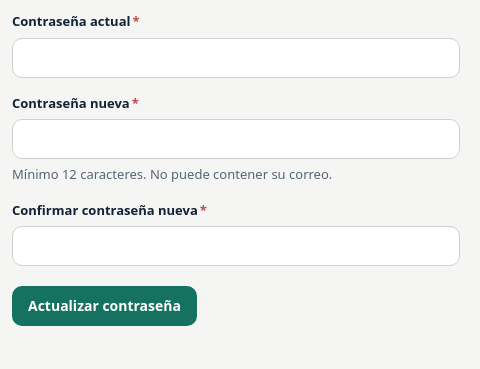
ChangePasswordForm › shows a wrong current password under its field
Type "actual-1234567" into the password field labelled "Contraseña actual*". click: (236, 58)
box: [12,38,460,78]
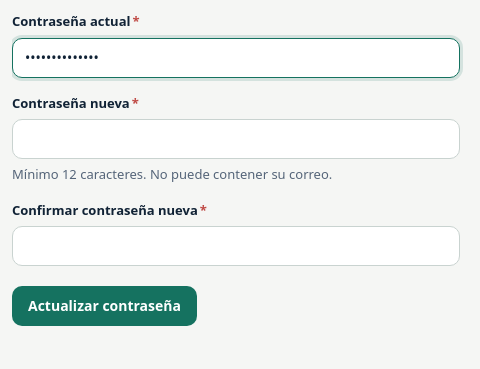
Type "Obra-Segura-2026" into the password field labelled "Contraseña nueva*". click: (236, 139)
box: [12,119,460,159]
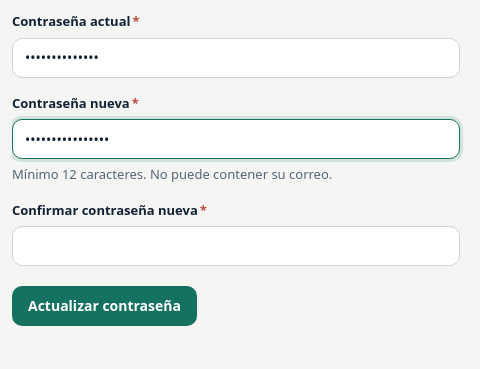
Type "Obra-Segura-2026" into the password field labelled "Confirmar contraseña nueva*". click: (236, 246)
box: [12,226,460,266]
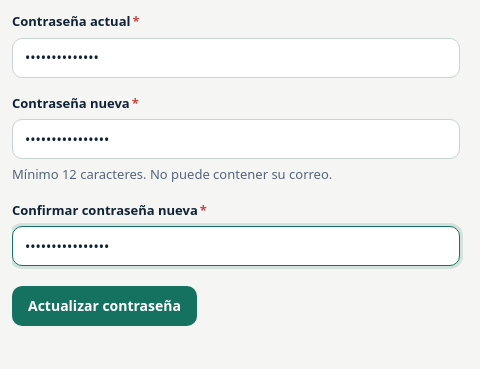
Click the button "Actualizar contraseña". click: (104, 306)
box: [12,286,197,326]
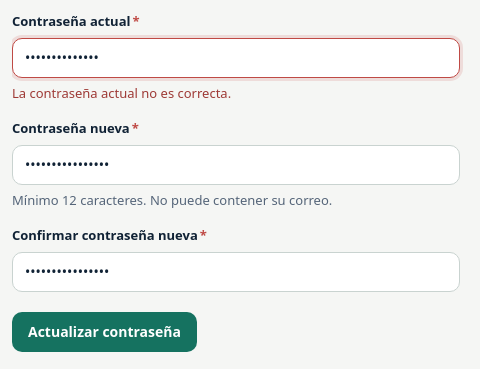
Expected: the text "La contraseña actual no es correcta." is shown, [12,84,231,102]
